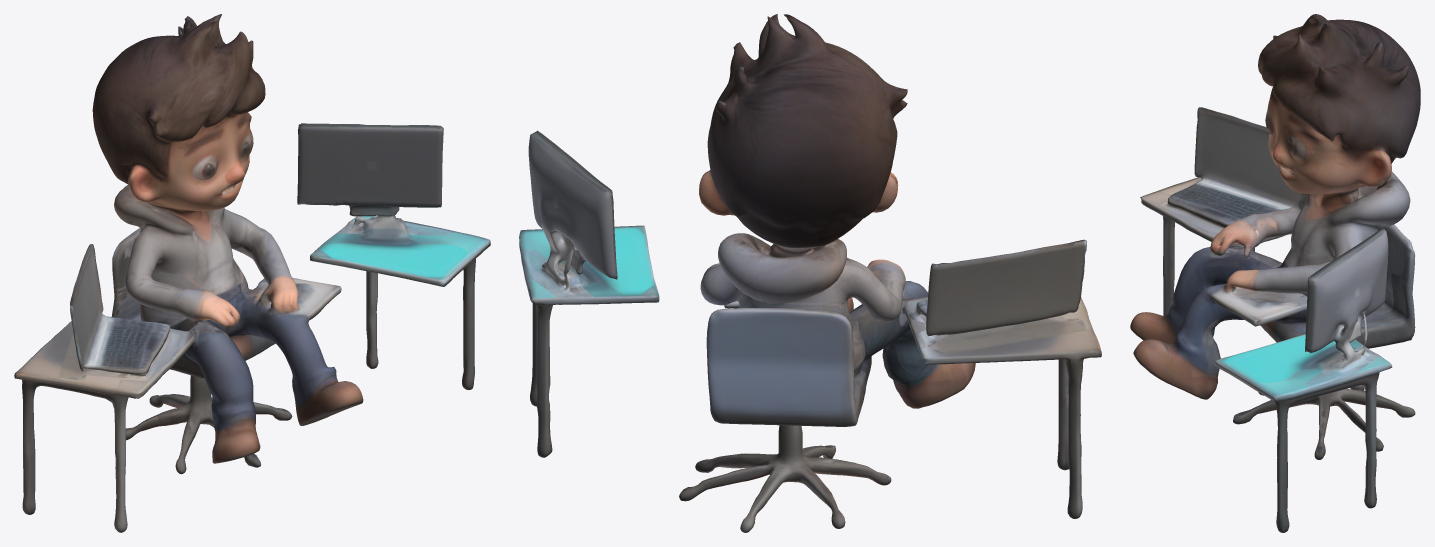
Rendered from Software_engineer_lo_0914052734_refine.glb.
The picture shows the model from 3 angles, left to right: view 1: azimuth 30°, elevation 25°; view 2: azimuth 150°, elevation 25°; view 3: azimuth 270°, elevation 25°; orthographic projection. The views are drawn at different scales.
Bounding box in the file's own units: 2.01 × 1.63 × 1.05.
Materials: 1 (1 with a texture image).
